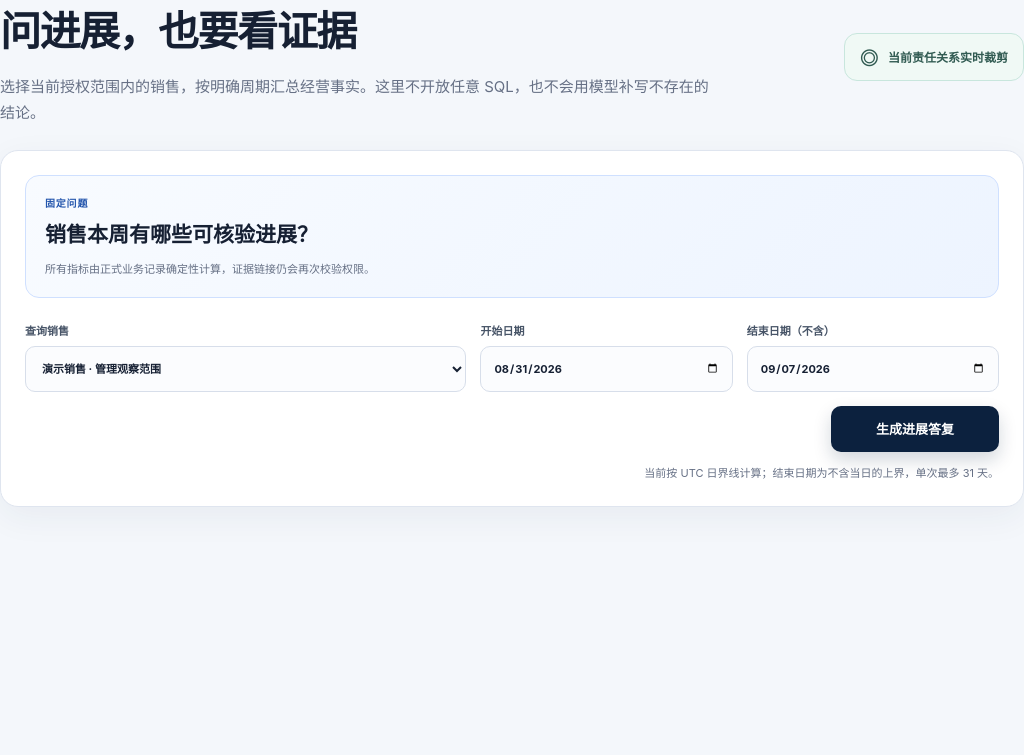
Scenario: ManagementQueryWorkspace › renders metrics, evidence links, scope, cutoff and truthful data gaps
This screenshot has width=1024, height=755.
Expected: the dropdown labelled "查询销售" is shown, [25, 346, 466, 392]
Click the button "生成进展答复": (915, 429) [831, 406, 999, 452]
(page scrolled)
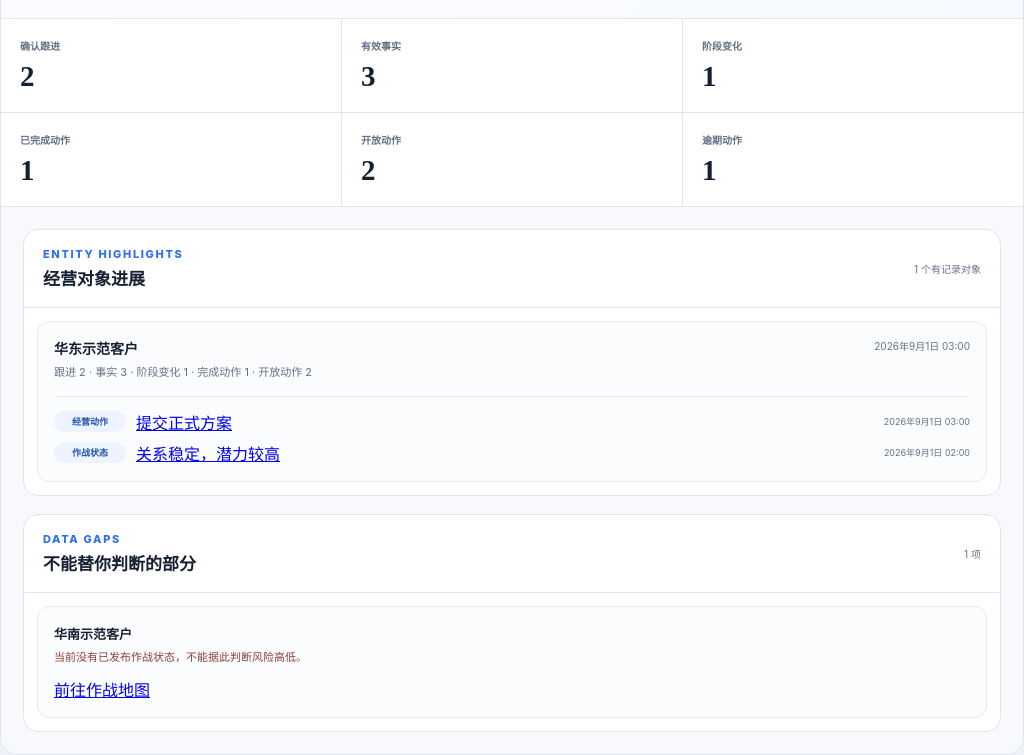
Result: the text "确认跟进" is shown at [20, 40, 60, 52]
Result: the text "有效事实" is shown at [361, 40, 401, 52]
Result: the heading "华东示范客户" is shown at [54, 340, 138, 357]
